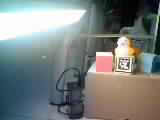duck: (104, 29, 143, 62)
